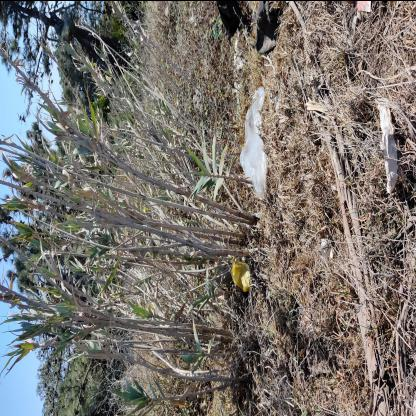plastik: (239, 86, 268, 200), (230, 255, 252, 292)
